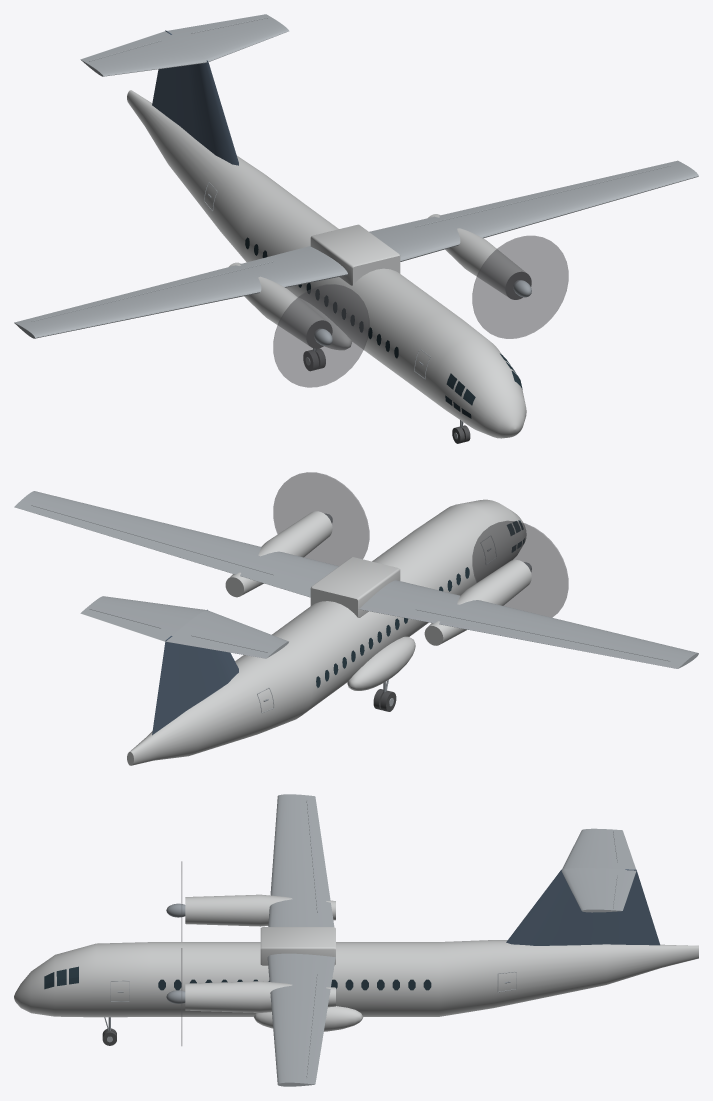
File: aircraft-turboprop.glb
3 renders of one model, top to bottom at view 1: azimuth 30°, elevation 25°; view 2: azimuth 150°, elevation 25°; view 3: azimuth 270°, elevation 25°, orthographic. The views are drawn at different scales.
Parts seen in each view (by area): view 1: aircraft-turboprop, gear; view 2: aircraft-turboprop, gear; view 3: aircraft-turboprop.
Part boxes in pixels (left/top/right/bottom): aircraft-turboprop: left=14, top=14, right=698, bottom=438; gear: left=303, top=348, right=470, bottom=443; aircraft-turboprop: left=14, top=472, right=698, bottom=765; gear: left=373, top=680, right=396, bottom=711; aircraft-turboprop: left=14, top=794, right=698, bottom=1086.
Size of the model in its own units: 27.1 by 7.7 by 27.2.
